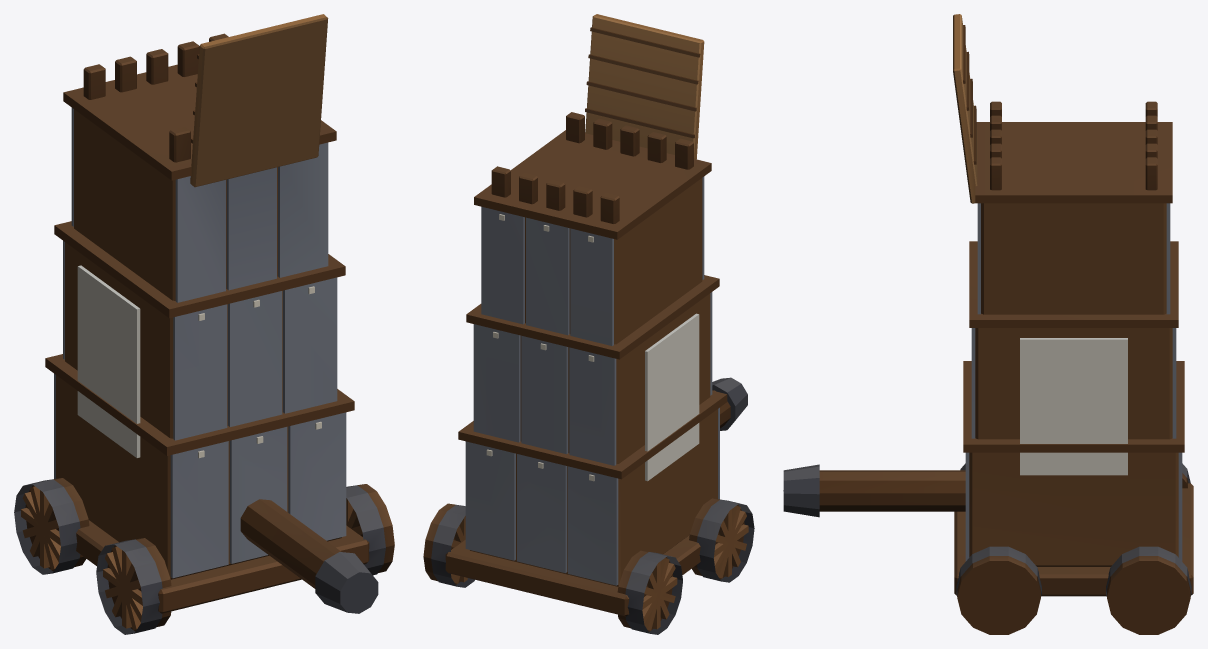
The model's file is boss_tower.glb.
3 renders of one model, left to right at view 1: azimuth 30°, elevation 25°; view 2: azimuth 150°, elevation 25°; view 3: azimuth 270°, elevation 25°, orthographic. The views are drawn at different scales.
Parts seen in each view (by area): view 1: boss_tower, bridge, Primary, wheel0, wheel2, wheel1; view 2: boss_tower, bridge, Primary, wheel2, wheel0, wheel3; view 3: boss_tower, Primary, wheel3, wheel1, bridge.
Part boxes in pixels (x1=…): boss_tower: x1=45, y1=33, x2=378, y2=613; bridge: x1=190, y1=14, x2=328, y2=187; Primary: x1=77, y1=265, x2=140, y2=457; wheel0: x1=96, y1=538, x2=171, y2=634; wheel2: x1=14, y1=478, x2=89, y2=574; wheel1: x1=346, y1=484, x2=394, y2=575; boss_tower: x1=445, y1=112, x2=747, y2=616; bridge: x1=585, y1=14, x2=704, y2=159; Primary: x1=645, y1=313, x2=699, y2=481; wheel2: x1=617, y1=550, x2=682, y2=634; wheel0: x1=689, y1=498, x2=754, y2=582; wheel3: x1=423, y1=503, x2=474, y2=587; boss_tower: x1=783, y1=101, x2=1193, y2=596; Primary: x1=1020, y1=338, x2=1127, y2=475; wheel3: x1=1106, y1=546, x2=1191, y2=634; wheel1: x1=956, y1=546, x2=1041, y2=634; bridge: x1=953, y1=14, x2=977, y2=203.
Size of the model in its own units: 0.887 by 1.98 by 1.37.
